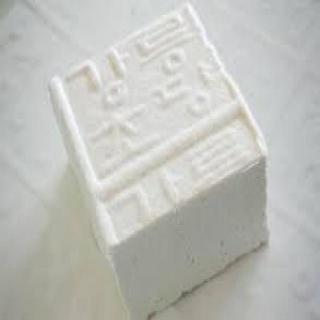Tahu: (30, 4, 296, 300)
